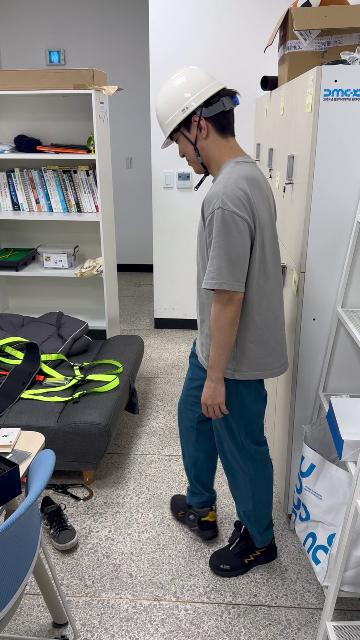helmet_worn: (153, 66, 231, 150)
shoe_not_worn: (39, 495, 79, 549)
shoe_worn: (208, 521, 277, 576), (170, 494, 217, 540)
vest_not_worn: (197, 178, 289, 378)
